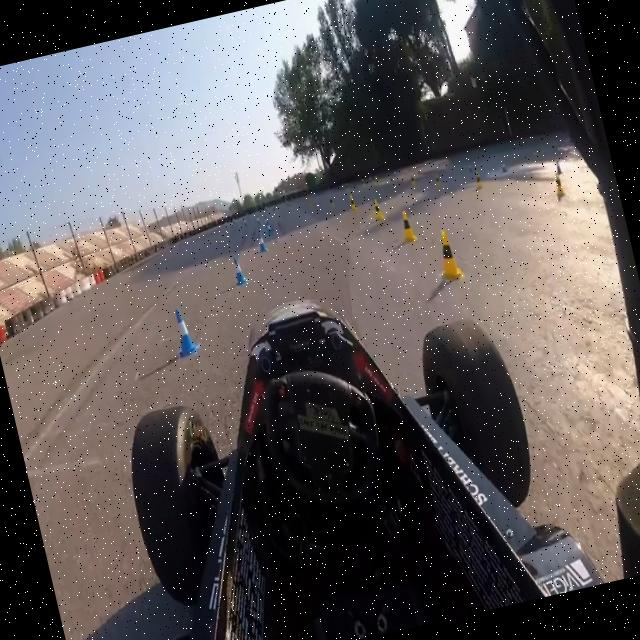blue_cone: (167, 304, 200, 359), (230, 254, 248, 286), (254, 230, 269, 256), (553, 158, 562, 174), (265, 222, 273, 236), (499, 160, 507, 173), (262, 214, 268, 224), (255, 214, 261, 224), (242, 218, 248, 226)
yellow_cone: (433, 228, 462, 284), (398, 207, 418, 244), (552, 172, 566, 199), (370, 200, 384, 223), (472, 171, 483, 191), (348, 193, 358, 210), (434, 173, 442, 188)
